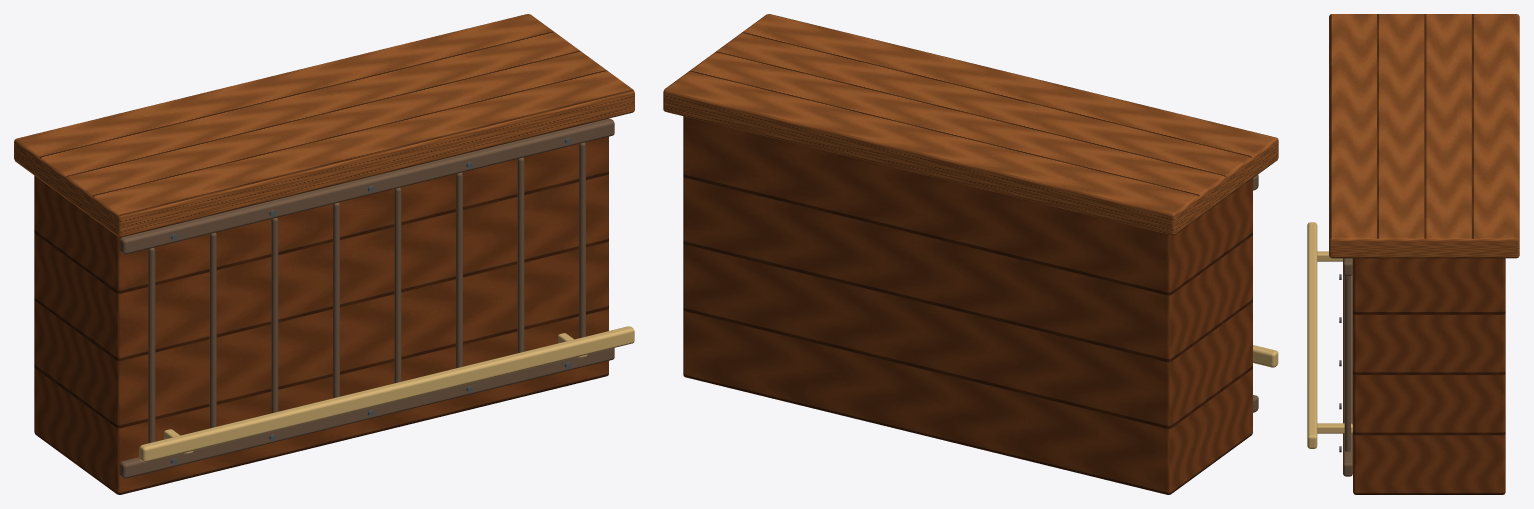
Rendered from adventurers-tavern-and-guild-hall-bar-counter-straight-5e30d076__24694.glb.
3 views of the same model, side by side, from view 1: azimuth 30°, elevation 25°; view 2: azimuth 150°, elevation 25°; view 3: azimuth 270°, elevation 25° (orthographic). The views are drawn at different scales.
Visible parts, largest first — view 1: bar-counter-straight; view 2: bar-counter-straight; view 3: bar-counter-straight.
Part boxes in pixels (x1,y1,x2,y2): bar-counter-straight: [14, 14, 634, 494]; bar-counter-straight: [663, 14, 1278, 494]; bar-counter-straight: [1307, 14, 1519, 494].
Bounding box in the file's own units: 2.1 × 1.14 × 0.8349.
5 materials, 2 textured.
